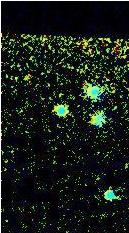star: (14, 62, 44, 92)
